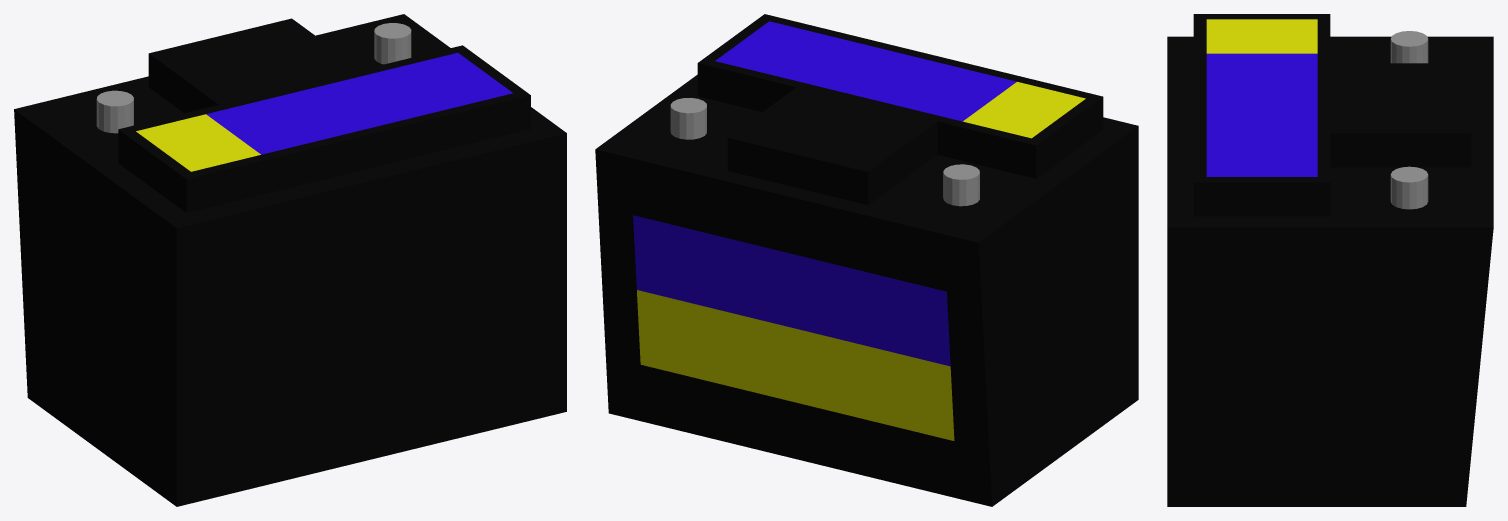
Rendered from bateria 1.fbx.
3 views of the same model, side by side, from view 1: azimuth 30°, elevation 25°; view 2: azimuth 150°, elevation 25°; view 3: azimuth 270°, elevation 25° (orthographic). The views are drawn at different scales.
Parts seen in each view (by area): view 1: Cube; view 2: Cube; view 3: Cube.
Part boxes in pixels (box(x1,y1,x2,y2)): Cube: box(14, 14, 566, 506); Cube: box(595, 14, 1138, 506); Cube: box(1167, 14, 1493, 506).
Size of the model in its own units: 50.92 by 38.97 by 36.8.
